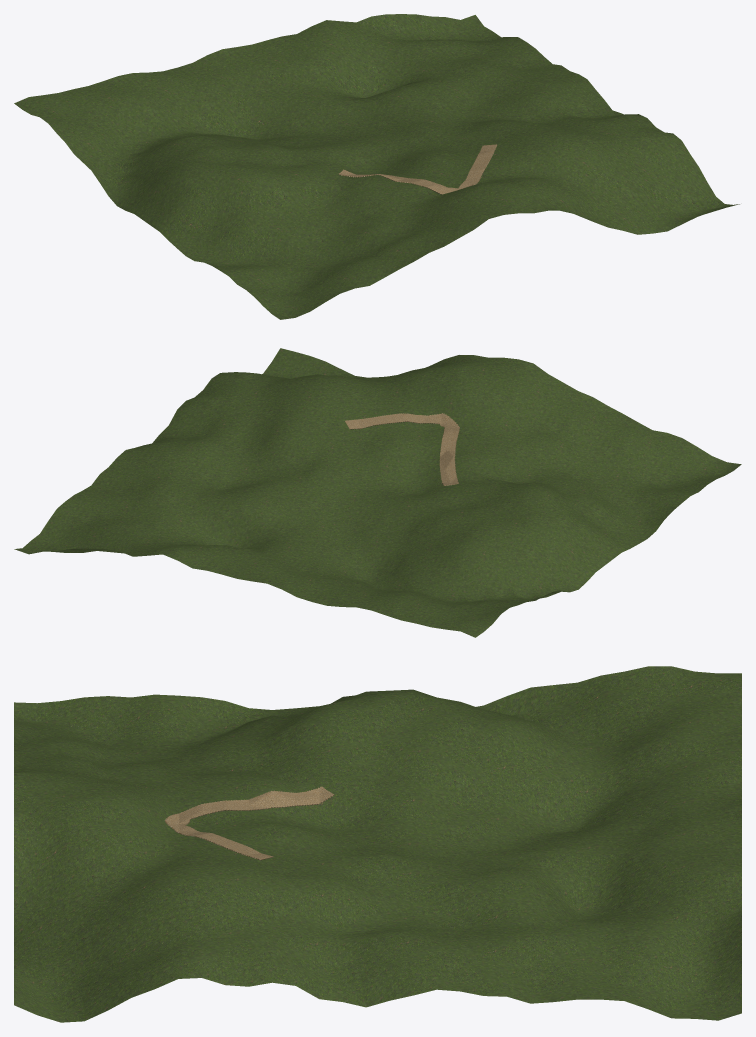
Rendered from Level2B2 1.fbx.
3 views of the same model, one above another, from view 1: azimuth 30°, elevation 25°; view 2: azimuth 150°, elevation 25°; view 3: azimuth 270°, elevation 25° (orthographic). The views are drawn at different scales.
Visible parts, largest first — view 1: Landscape, Plane; view 2: Landscape, Plane; view 3: Landscape, Plane.
Part boxes in pixels (left/top/right/bottom): Landscape: left=14, top=14, right=739, bottom=319; Plane: left=338, top=144, right=496, bottom=194; Landscape: left=14, top=348, right=741, bottom=637; Plane: left=345, top=413, right=459, bottom=485; Landscape: left=14, top=666, right=741, bottom=1022; Plane: left=165, top=786, right=334, bottom=860.
Bounding box in the file's own units: 12491 × 1606 × 12491.
